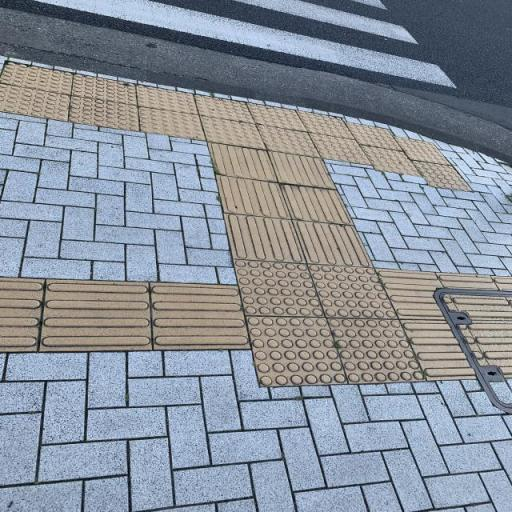dot: (246, 316, 350, 387), (325, 318, 428, 385), (233, 261, 325, 317), (308, 263, 399, 318)
line: (36, 279, 154, 353), (147, 279, 254, 349), (220, 213, 304, 263), (292, 222, 376, 269), (214, 175, 290, 218), (277, 183, 356, 224)
